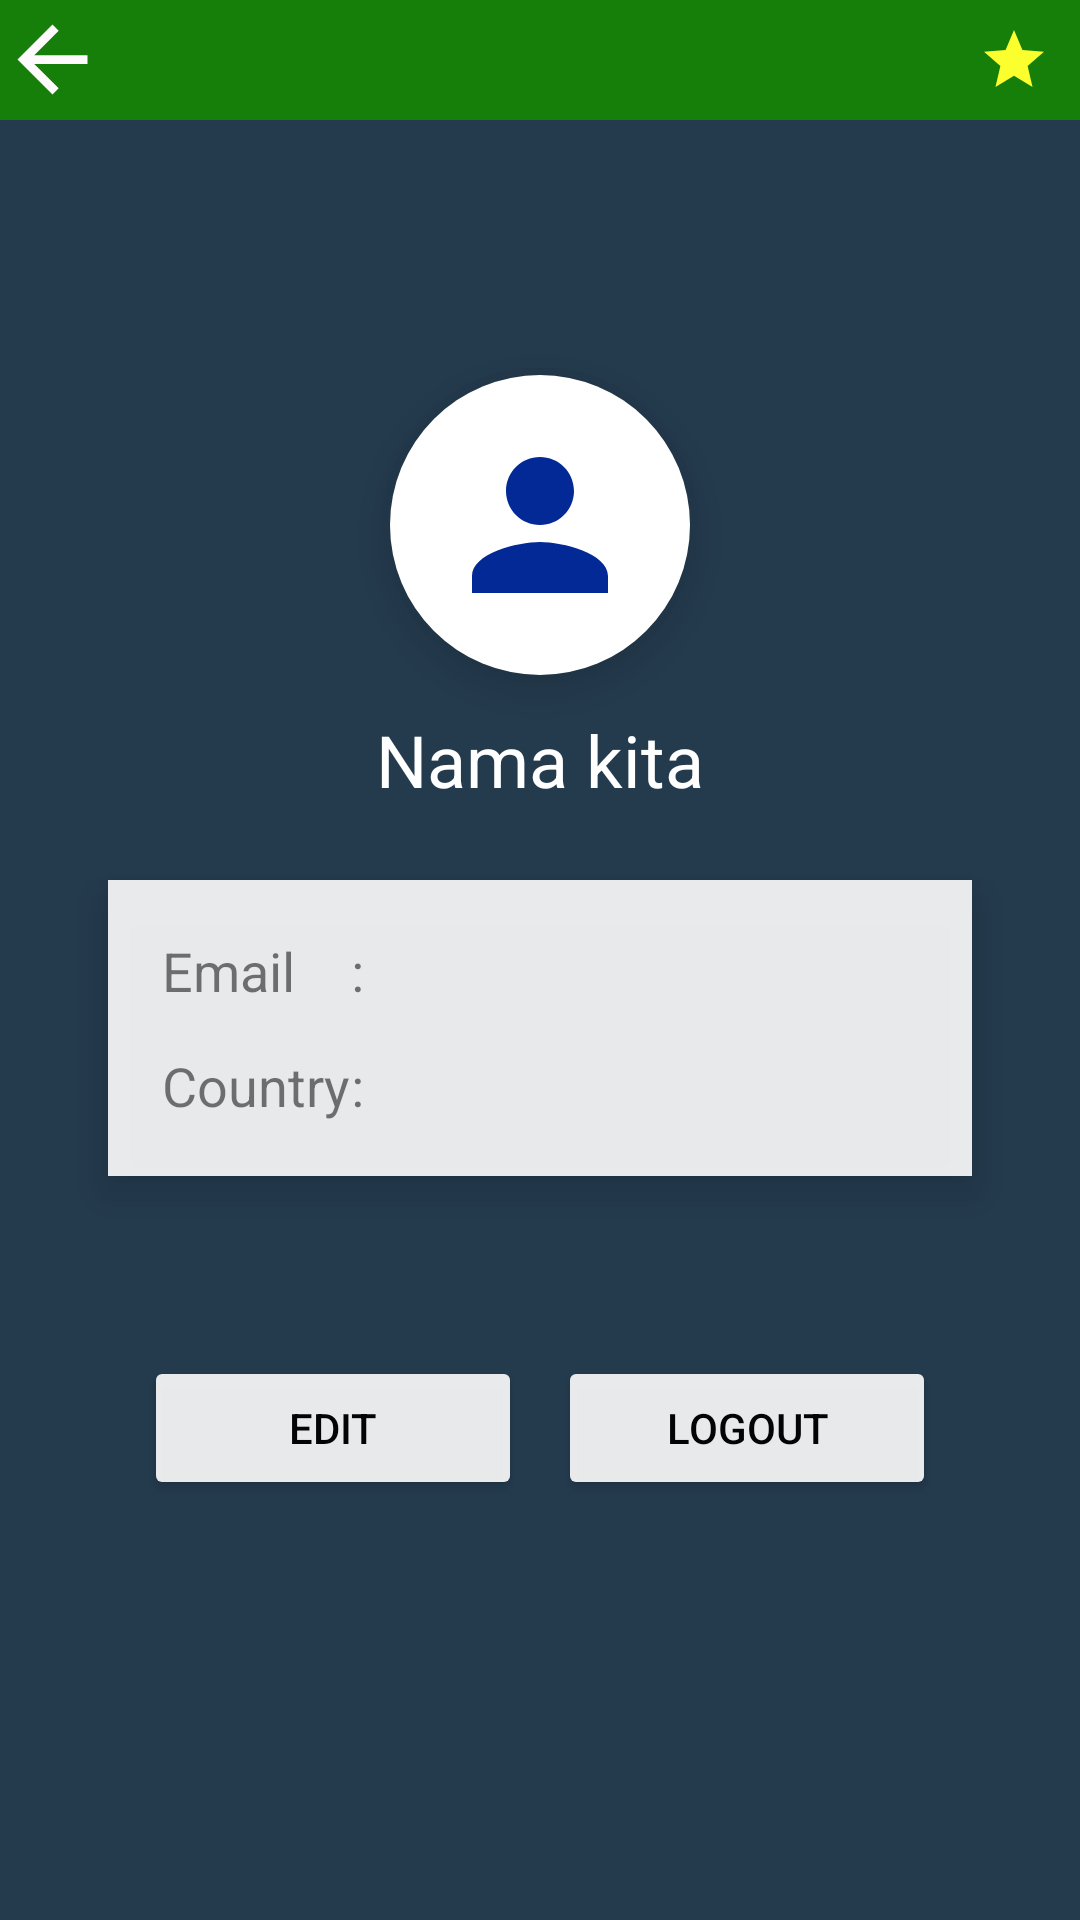

Screen size 1080*1920. Icon name, then its center in pixels as point (x, y):
arrow back: point (52, 59)
person: point (540, 525)
star: point (1014, 58)
